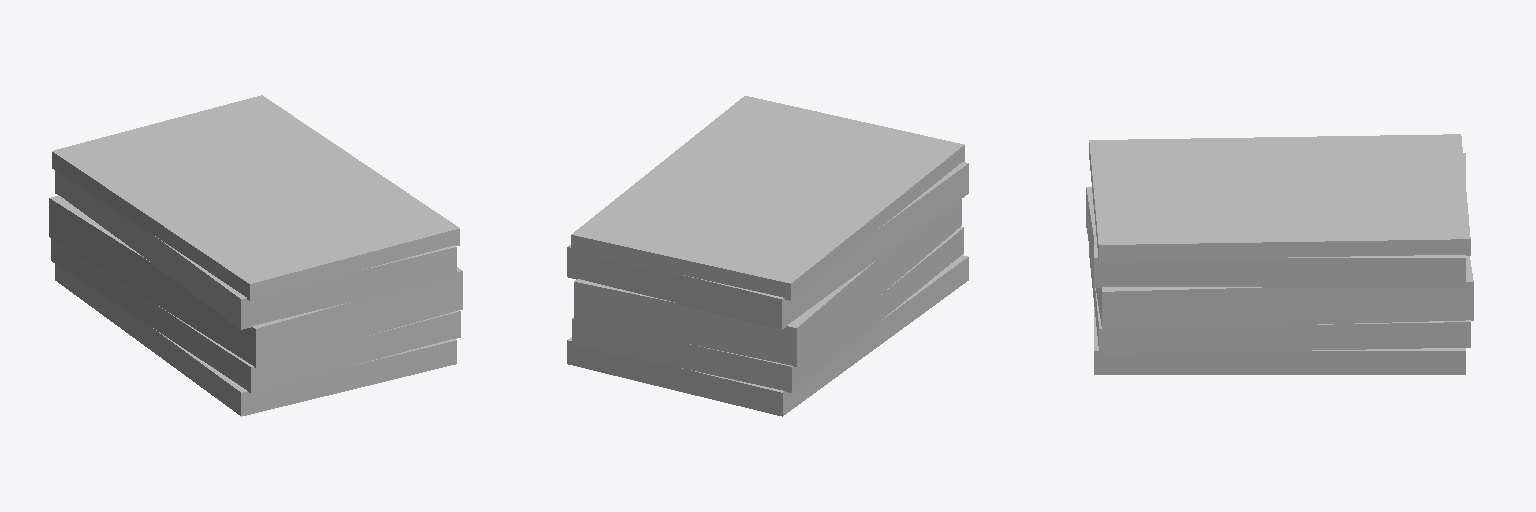
File: Office_Files_A.obj
3 views of the same model, side by side, from view 1: azimuth 30°, elevation 25°; view 2: azimuth 150°, elevation 25°; view 3: azimuth 270°, elevation 25° (orthographic).
Visible parts, largest first — view 1: Office_Files_A; view 2: Office_Files_A; view 3: Office_Files_A.
Part boxes in pixels (x1,y1,x2,y2): Office_Files_A: (49, 95, 462, 416); Office_Files_A: (567, 96, 968, 416); Office_Files_A: (1086, 134, 1473, 374).
Size of the model in its own units: 0.2557 by 0.1377 by 0.3644.